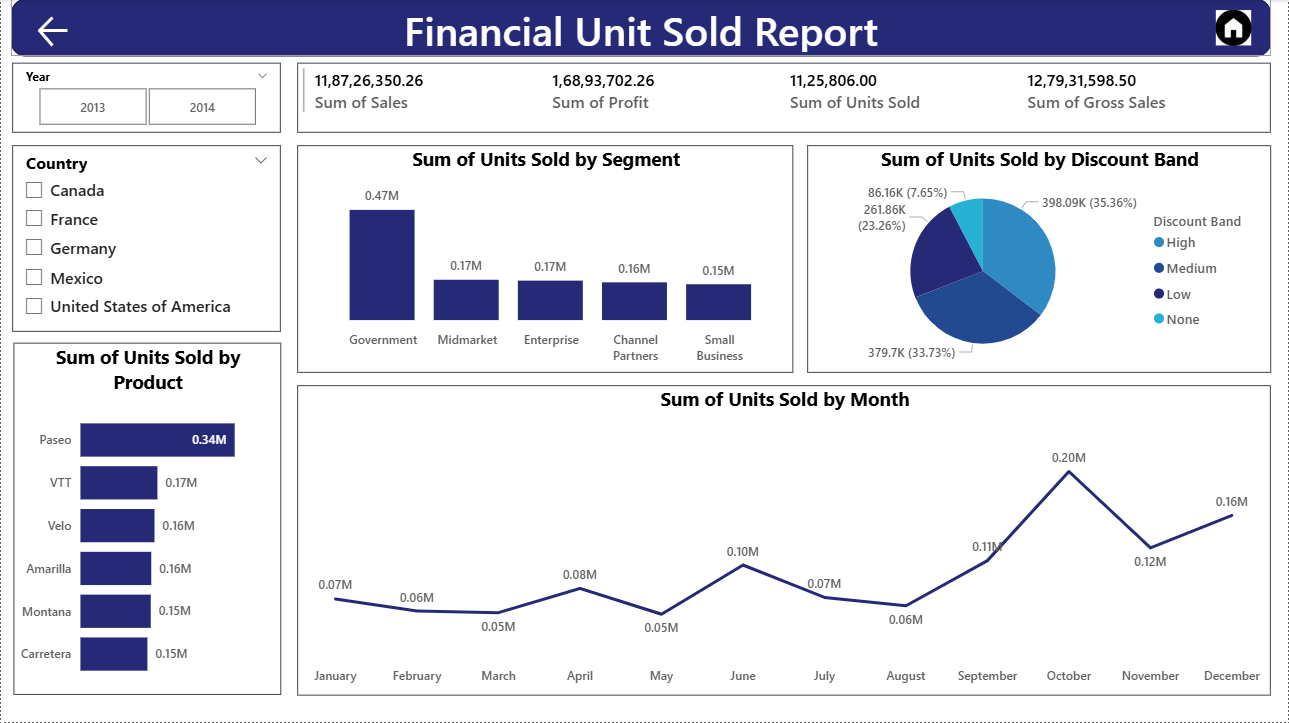

The dashboard page shown, as its layout file describes it:
{"tool":"powerbi","page":{"name":"Unit Sold Report","canvas":[1280,720],"ordinal":3},"visuals":[{"type":"shape","box":[10,0,1253.9,57.2],"z":0},{"type":"multiRowCard","fields":{"Values":["Sum(financials.Sales)","Sum(financials.Profit)","Sum(financials.Units Sold)","Sum(financials.Gross Sales)"]},"box":[294.8,63.4,969,69.7],"z":1000},{"type":"slicer","fields":{"Values":["financials.Country"]},"box":[11.2,145.5,267.5,185.3],"z":2000},{"type":"slicer","fields":{"Values":["financials.Year"]},"box":[11.2,63.4,267.5,69.7],"z":3000},{"type":"barChart","fields":{"Category":["financials.Product"],"Y":["Sum(financials.Units Sold)"]},"box":[12.4,342.1,266.2,350.8],"z":4000},{"type":"columnChart","fields":{"Category":["financials.Segment"],"Y":["Sum(financials.Units Sold)"]},"box":[294.8,145.5,493.9,226.4],"z":5000},{"type":"pieChart","fields":{"Category":["financials.Discount Band"],"Y":["Sum(financials.Units Sold)"]},"box":[802.4,145.5,461.5,226.4],"z":6000},{"type":"lineChart","fields":{"Category":["financials.Date.Variation.Date Hierarchy.Month"],"Y":["Sum(financials.Units Sold)"]},"box":[294.8,384.4,969,308.5],"z":7000},{"type":"image","box":[1204.2,6.2,44.8,44.8],"z":8000},{"type":"actionButton","box":[32.3,12.4,43.5,39.8],"z":9000}]}

Visuals, with their boxes in screenshot pixels (x1, y1, x2, y2), scaled from the page's 1280x720 canvas onto the 1289x723 screenshot:
shape: region(10, 0, 1273, 57)
multiRowCard - Sum(financials.Sales) x Sum(financials.Profit): region(297, 64, 1273, 134)
slicer - financials.Country: region(11, 146, 281, 332)
slicer - financials.Year: region(11, 64, 281, 134)
barChart - financials.Product x Sum(financials.Units Sold): region(12, 344, 281, 696)
columnChart - financials.Segment x Sum(financials.Units Sold): region(297, 146, 794, 373)
pieChart - financials.Discount Band x Sum(financials.Units Sold): region(808, 146, 1273, 373)
lineChart - financials.Date.Variation.Date Hierarchy.Month x Sum(financials.Units Sold): region(297, 386, 1273, 696)
image: region(1213, 6, 1258, 51)
actionButton: region(33, 12, 76, 52)
